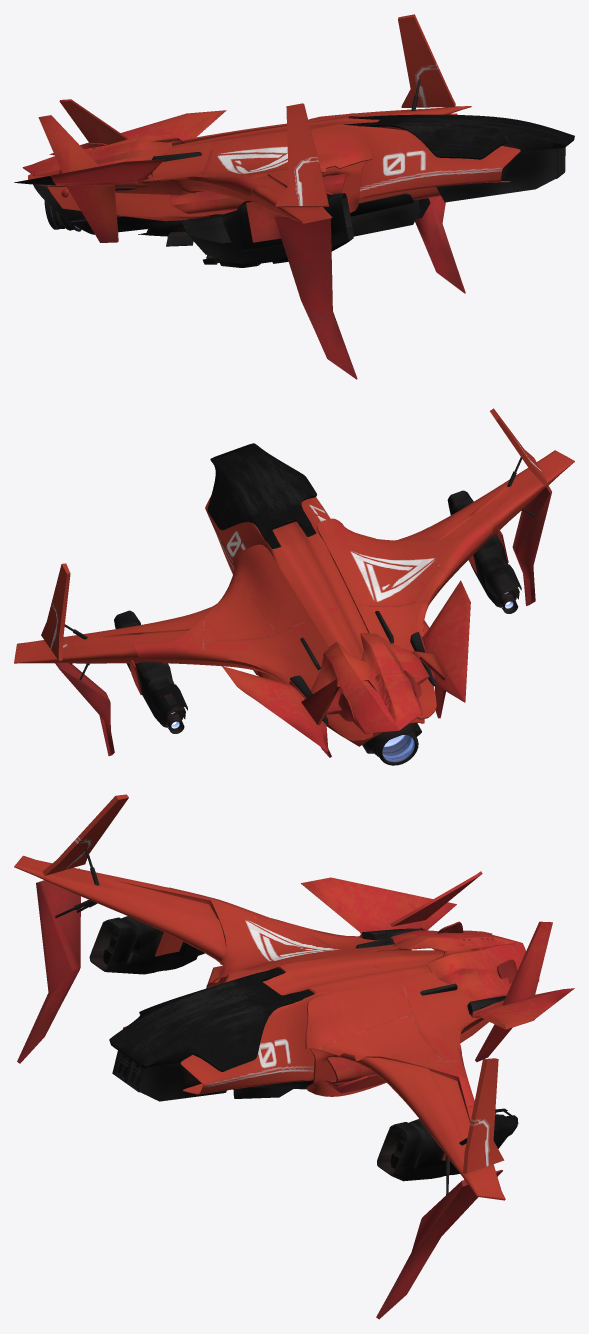
File: spaceship.glb
3 renders of one model, top to bottom at view 1: azimuth 30°, elevation 25°; view 2: azimuth 150°, elevation 25°; view 3: azimuth 270°, elevation 25°, orthographic. The views are drawn at different scales.
Parts seen in each view (by area): view 1: spaceship; view 2: spaceship; view 3: spaceship.
Part boxes in pixels (x1,y1,x2,y2): spaceship: (14, 14, 574, 379); spaceship: (14, 408, 574, 765); spaceship: (14, 794, 574, 1319).
Size of the model in its own units: 0.409 by 0.2926 by 0.3974.
1 material, 1 textured.
